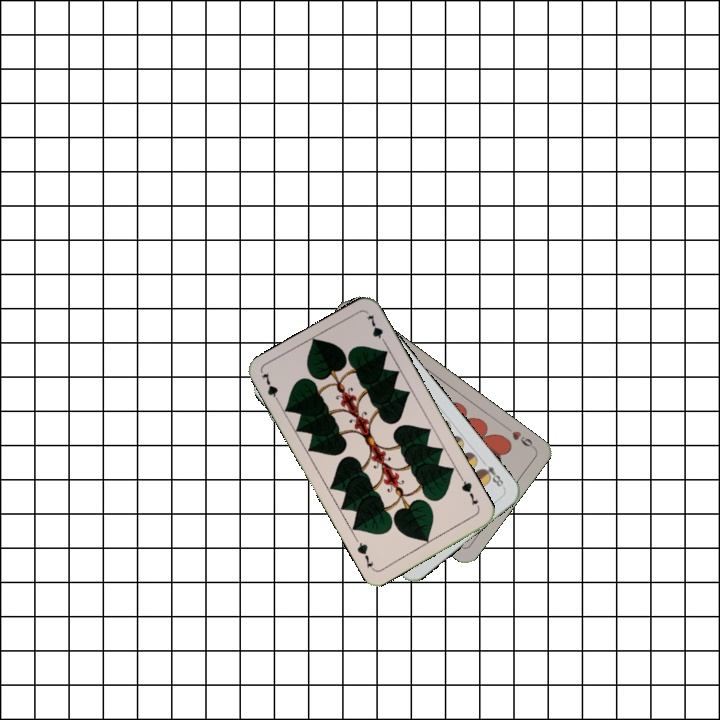E8: (476, 456, 507, 491)
G7: (257, 368, 284, 408), (457, 474, 482, 512)
H9: (502, 423, 537, 451)
